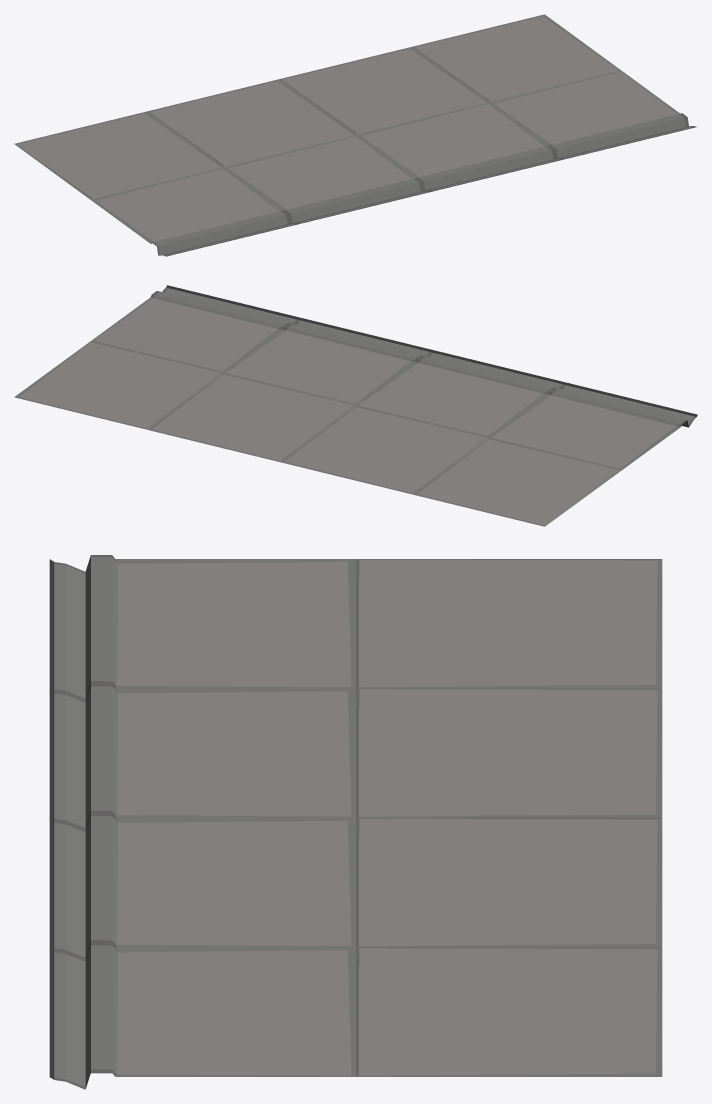
The model's file is SM_Env_Sidewalk_Combined_01.fbx.
The picture shows the model from 3 angles, top to bottom: view 1: azimuth 30°, elevation 25°; view 2: azimuth 150°, elevation 25°; view 3: azimuth 270°, elevation 25°; orthographic projection. The views are drawn at different scales.
Visible parts, largest first — view 1: SM_Env_Sidewalk_Combined_01; view 2: SM_Env_Sidewalk_Combined_01; view 3: SM_Env_Sidewalk_Combined_01.
Part boxes in pixels (<box>): SM_Env_Sidewalk_Combined_01: <box>14,14,696,256</box>; SM_Env_Sidewalk_Combined_01: <box>14,285,697,526</box>; SM_Env_Sidewalk_Combined_01: <box>49,555,662,1089</box>.
Size of the model in its own units: 1000 by 15 by 500.
